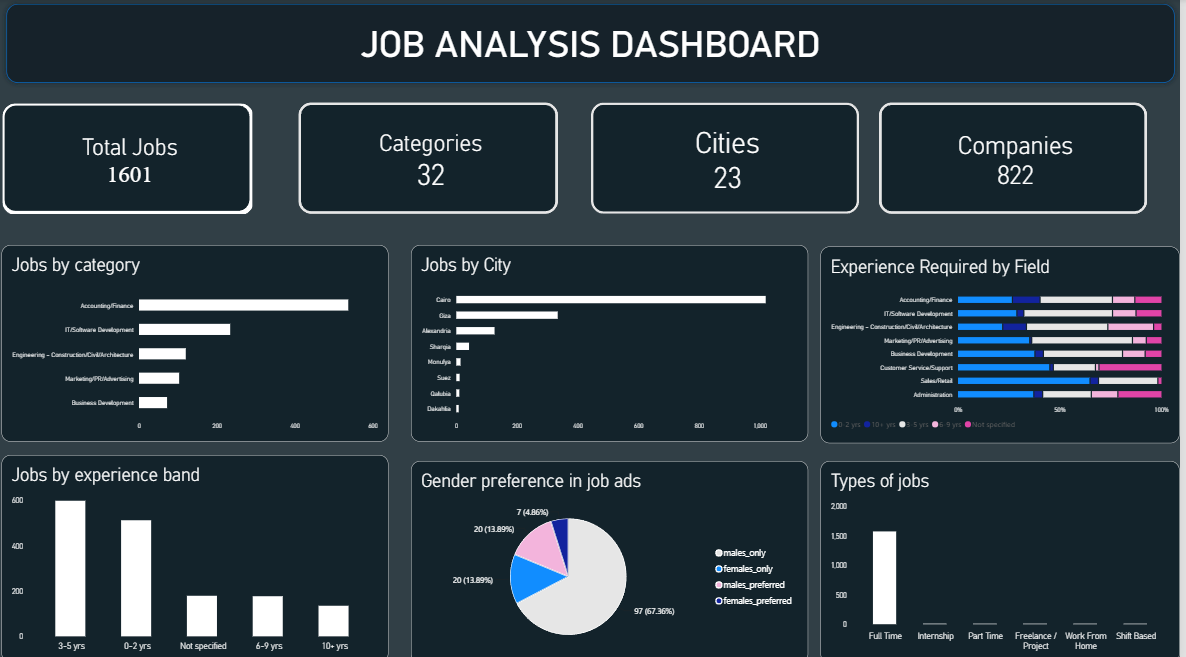

The page's visual inventory and layout, read from the dashboard file:
{"tool":"powerbi","page":{"name":"Page 1","canvas":[1920,1080],"ordinal":0},"visuals":[{"type":"cardVisual","fields":{"Data":["CountNonNull(clean_jobs.job_title)"]},"box":[2.8,167.2,408.2,181.4],"z":0},{"type":"cardVisual","fields":{"Data":["Count(clean_jobs.category)"]},"box":[484.7,167.2,422.4,181.4],"z":1000},{"type":"cardVisual","fields":{"Data":["Count(clean_jobs.city)"]},"box":[961,167.2,436.5,181.4],"z":2000},{"type":"shape","box":[2.8,0,1916.2,144.6],"z":3000},{"type":"textbox","box":[3,423,451,232],"z":4000},{"type":"clusteredBarChart","title":"Jobs by category","fields":{"Category":["clean_jobs.category"],"Y":["CountNonNull(clean_jobs.job_title)"]},"box":[2.8,399.7,629.3,320.3],"z":5000},{"type":"clusteredBarChart","title":"Jobs by City","fields":{"Category":["clean_jobs.city"],"Y":["CountNonNull(clean_jobs.job_title)"]},"box":[669,399.7,646.3,320.3],"z":6000},{"type":"clusteredColumnChart","title":"Jobs by experience band","fields":{"Category":["clean_jobs.exp_band"],"Y":["CountNonNull(clean_jobs.job_title)"]},"box":[2.8,742.7,629.3,337.3],"z":7000},{"type":"pieChart","title":"Gender preference in job ads","fields":{"Category":["clean_jobs.gender_pref"],"Y":["CountNonNull(clean_jobs.job_title)"]},"box":[669,751.2,646.3,328.8],"z":8000},{"type":"hundredPercentStackedBarChart","title":"Experience Required by Field","fields":{"Category":["clean_jobs.category"],"Series":["clean_jobs.exp_band"],"Y":["CountNonNull(clean_jobs.job_title)"]},"box":[1335.1,402.5,583.9,320.3],"z":9000},{"type":"cardVisual","fields":{"Data":["Count(clean_jobs.company)"]},"box":[1428.7,167.2,436.5,181.4],"z":10000},{"type":"clusteredColumnChart","title":"Types of jobs","fields":{"Category":["clean_jobs.job_type"],"Y":["CountNonNull(clean_jobs.job_type)"]},"box":[1335.1,751.2,583.9,328.8],"z":10001}]}

Visuals, with their boxes in screenshot pixels (x1, y1, x2, y2), scaled from the page's 1920x1080 canvas onto the 1186x657 screenshot:
cardVisual - CountNonNull(clean_jobs.job_title): (left=2, top=102, right=254, bottom=212)
cardVisual - Count(clean_jobs.category): (left=299, top=102, right=560, bottom=212)
cardVisual - Count(clean_jobs.city): (left=594, top=102, right=863, bottom=212)
shape: (left=2, top=0, right=1185, bottom=88)
textbox: (left=2, top=257, right=280, bottom=398)
"Jobs by category" clusteredBarChart: (left=2, top=243, right=390, bottom=438)
"Jobs by City" clusteredBarChart: (left=413, top=243, right=812, bottom=438)
"Jobs by experience band" clusteredColumnChart: (left=2, top=452, right=390, bottom=656)
"Gender preference in job ads" pieChart: (left=413, top=457, right=812, bottom=656)
"Experience Required by Field" hundredPercentStackedBarChart: (left=825, top=245, right=1185, bottom=440)
cardVisual - Count(clean_jobs.company): (left=883, top=102, right=1152, bottom=212)
"Types of jobs" clusteredColumnChart: (left=825, top=457, right=1185, bottom=656)
